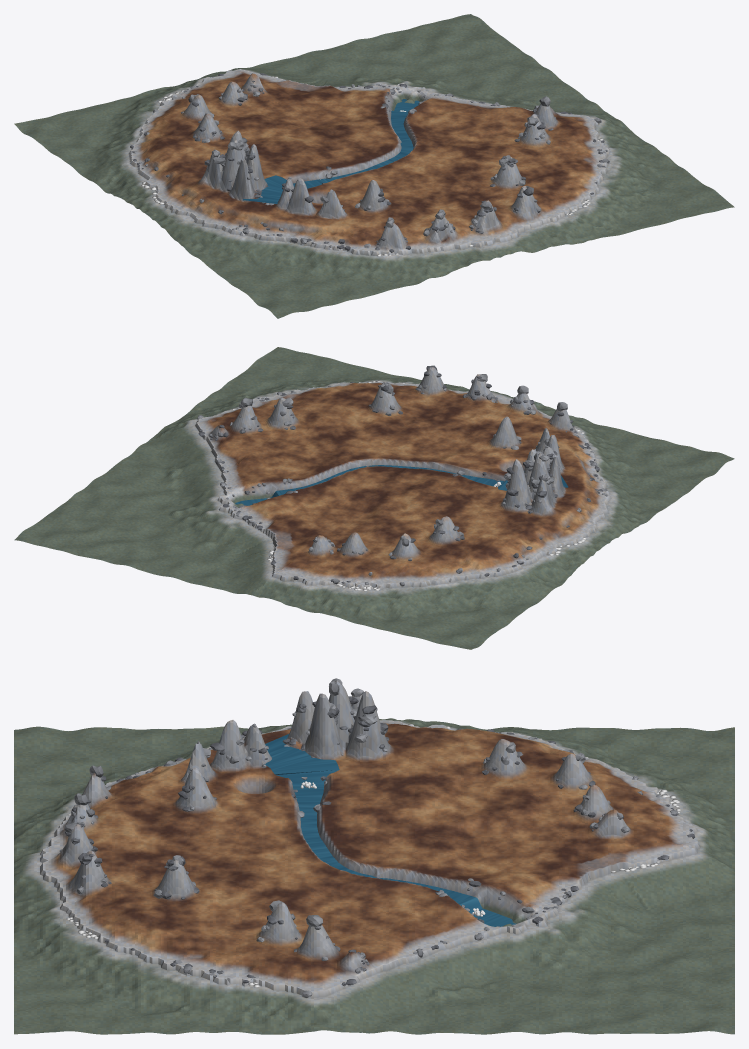
Rendered from Terrain_P2.fbx.
The picture shows the model from 3 angles, top to bottom: view 1: azimuth 30°, elevation 25°; view 2: azimuth 150°, elevation 25°; view 3: azimuth 270°, elevation 25°; orthographic projection. The views are drawn at different scales.
Parts seen in each view (by area): view 1: Ground, River; view 2: Ground, River; view 3: Ground, River.
Boxes of the visible parts, bbox=[...] form: Ground: bbox=[14, 14, 734, 318]; River: bbox=[243, 99, 419, 203]; Ground: bbox=[14, 347, 734, 649]; River: bbox=[235, 465, 568, 505]; Ground: bbox=[14, 680, 734, 1034]; River: bbox=[264, 734, 516, 926].
Size of what is drawn, in the model's own units: 64000 by 9981 by 64000.
